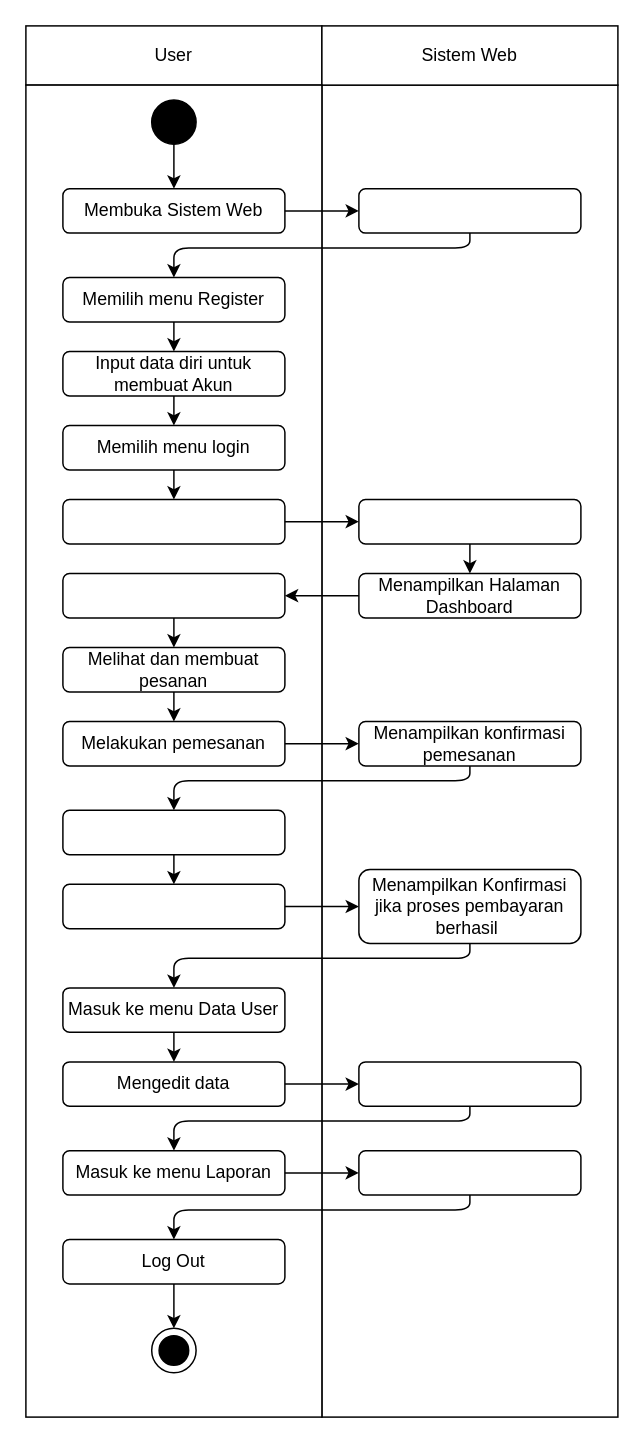
Some shapes in this 644 by 1443 pixel diagram are drawn without their labels. The centre of each missing label's shape, as x and y in pixels:
"Input form Login" goes at (173,521).
"Masuk ke Memilih paket" goes at (173,595).
"Melakukan Pembayaran" goes at (173,906).
"Memilih Pembayaran" goes at (173,832).
"Menampilkan halaman utama" goes at (469,210).
"Menampilkan laporan pemesanan" goes at (469,1172).
"Menyimpan dan menampilkan kembali data" goes at (469,1083).
"Verifikasi Login" goes at (469,521).
